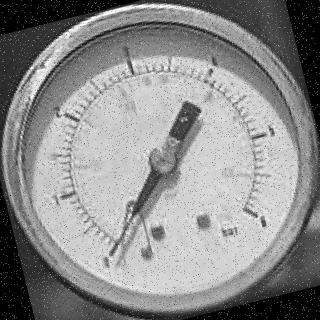gauge: (0, 0, 320, 320), (96, 219, 144, 273), (142, 139, 182, 181), (235, 195, 272, 234), (102, 241, 124, 263)
